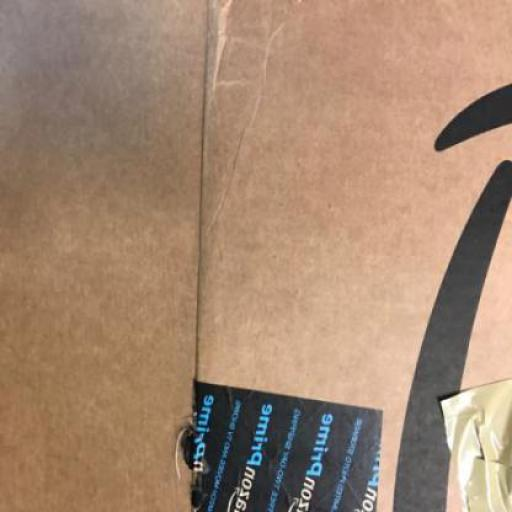cardboard: (1, 0, 512, 511), (198, 0, 512, 511), (1, 2, 208, 511)
